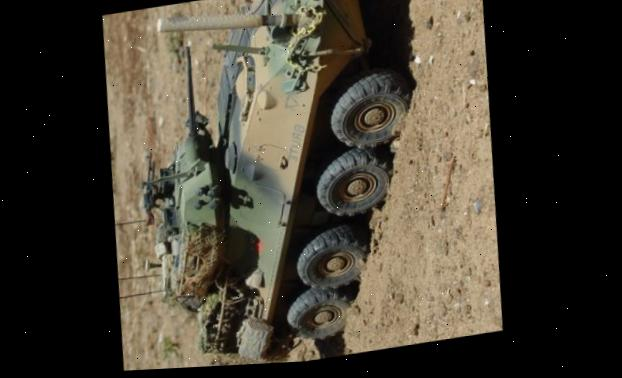armored_car: (104, 0, 441, 372)
